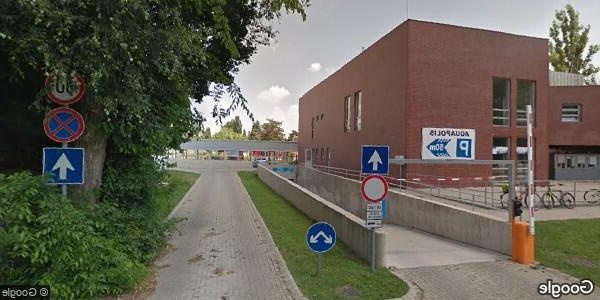b_speed_limit: (44, 68, 86, 106)
c_road_closed: (360, 174, 389, 202)
e_no_stop_park: (43, 107, 86, 143)
